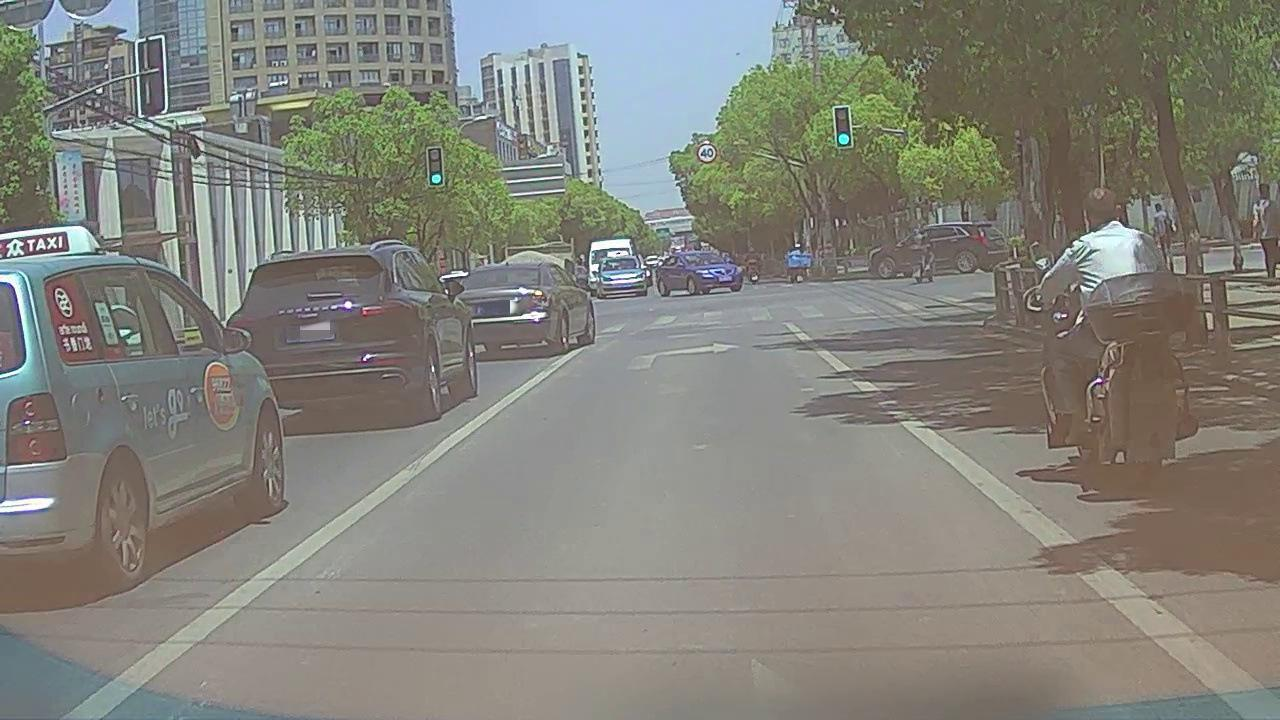traffic_light: (835, 106, 851, 148), (428, 148, 443, 185)
